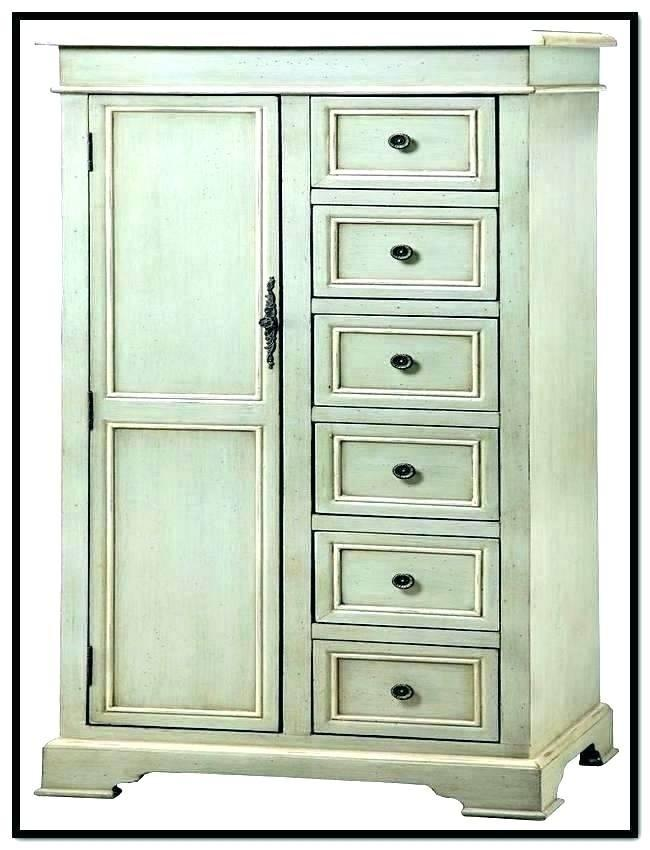cabinet_door: (93, 102, 281, 734), (320, 317, 498, 408), (320, 646, 498, 732), (320, 428, 498, 514), (320, 213, 496, 298), (323, 538, 496, 621), (315, 99, 487, 180)
handle: (256, 273, 285, 376), (390, 345, 416, 381), (389, 235, 416, 269), (388, 124, 414, 159), (392, 453, 416, 489), (392, 563, 416, 598), (392, 676, 414, 711)
